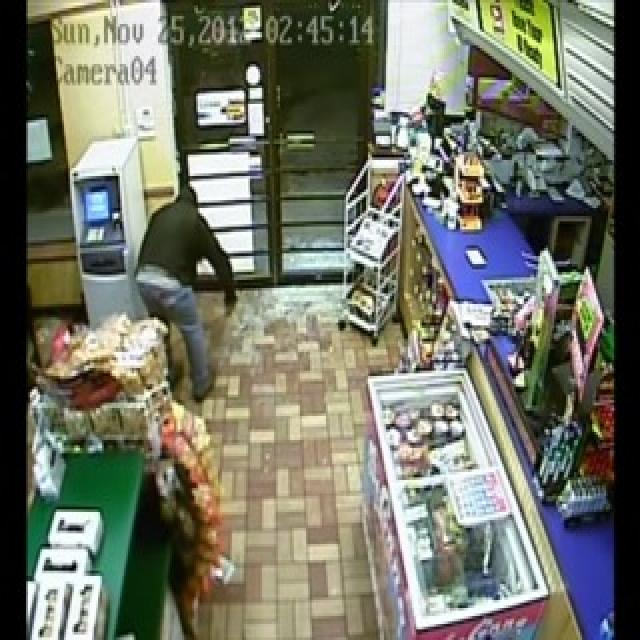thief: (125, 159, 220, 415)
